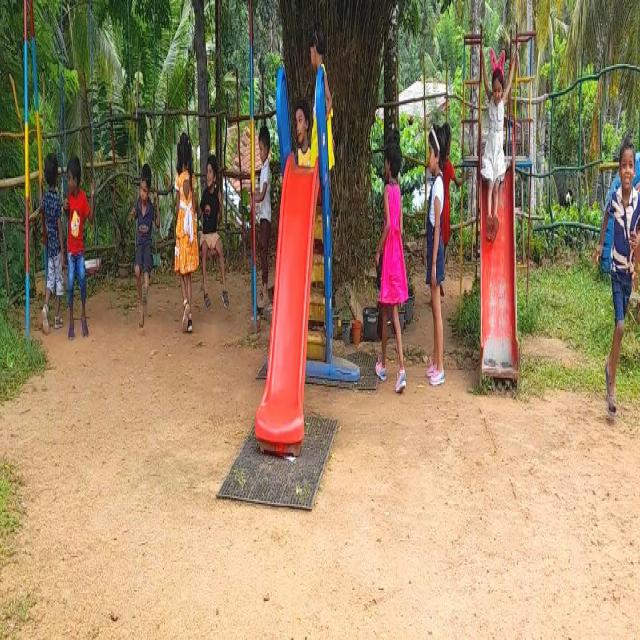child: (586, 136, 640, 440), (417, 126, 458, 410), (370, 121, 410, 393), (62, 120, 102, 334), (477, 29, 518, 236), (169, 118, 197, 338), (250, 97, 274, 326), (126, 144, 155, 324), (35, 148, 60, 342), (200, 136, 223, 306)
